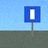sign: (24, 6, 40, 36)
